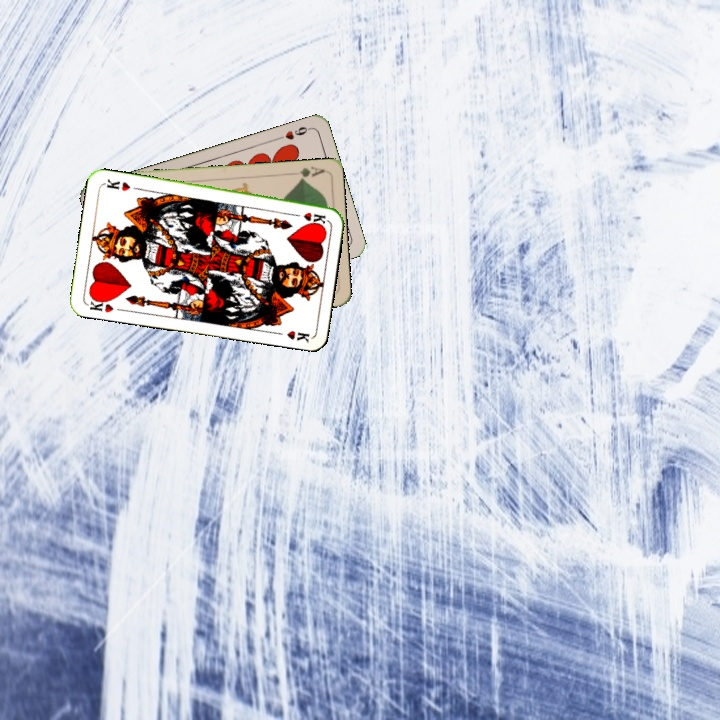GA: (286, 163, 327, 183)
H9: (274, 122, 313, 143)
HK: (288, 208, 328, 226), (84, 293, 116, 315)
